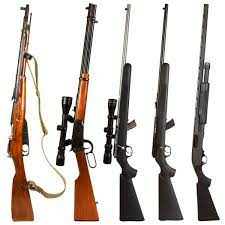gun: (55, 3, 101, 225), (103, 2, 146, 222), (150, 2, 184, 221), (6, 2, 38, 223), (190, 2, 221, 222)
